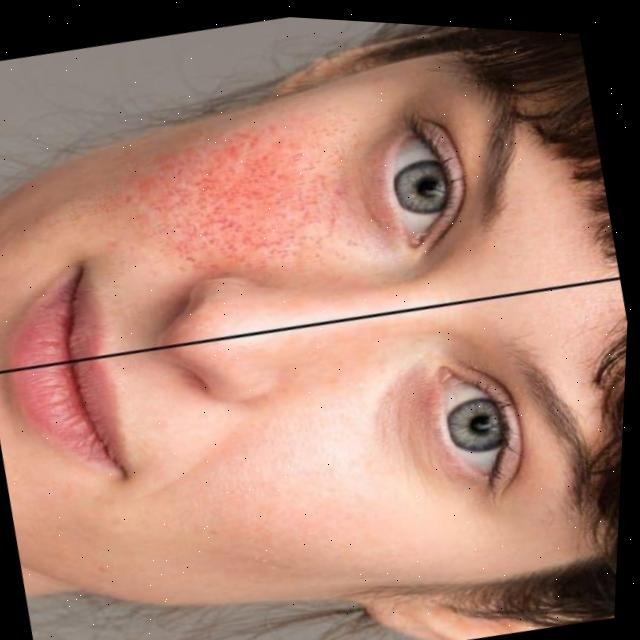Rosacea: (92, 88, 348, 292)
